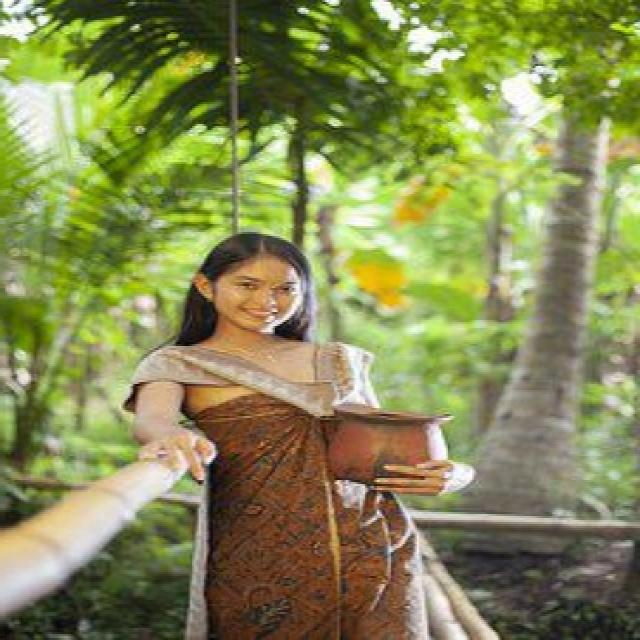adult: (135, 246, 411, 640)
